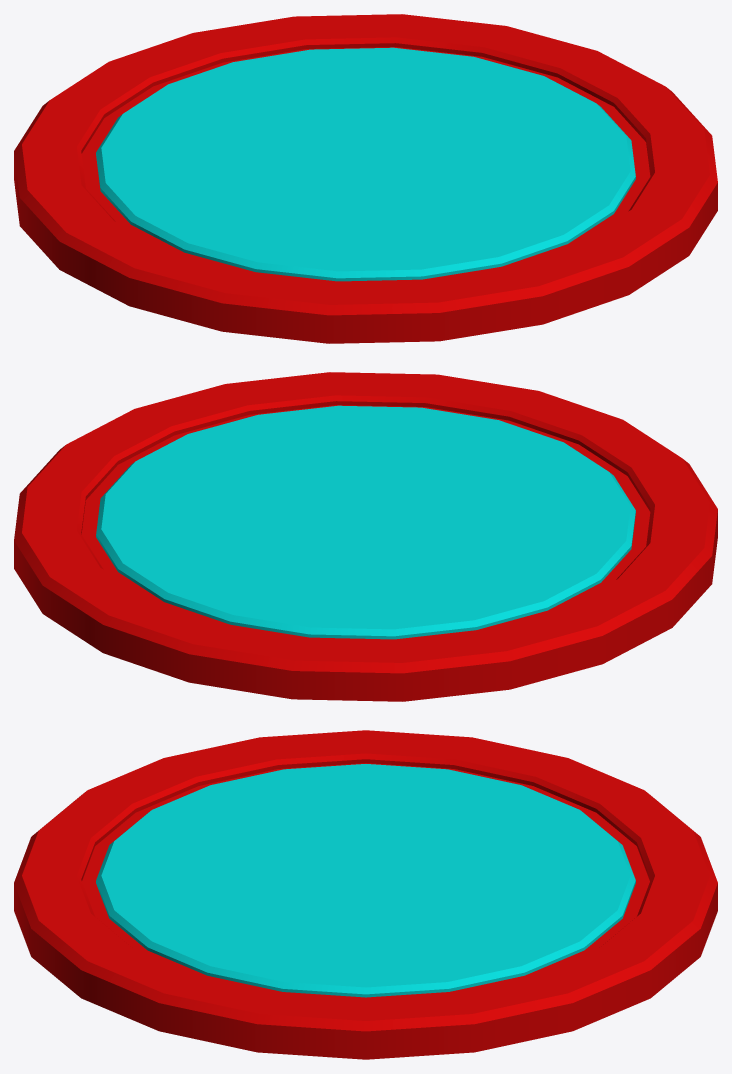
The model's file is groundDecal Unity.fbx.
The picture shows the model from 3 angles, top to bottom: view 1: azimuth 30°, elevation 25°; view 2: azimuth 150°, elevation 25°; view 3: azimuth 270°, elevation 25°; orthographic projection.
Visible parts, largest first — view 1: groundDecalUnity; view 2: groundDecalUnity; view 3: groundDecalUnity.
Part boxes in pixels (x1,y1,x2,y2): groundDecalUnity: (14, 14, 717, 343); groundDecalUnity: (14, 372, 717, 701); groundDecalUnity: (14, 730, 717, 1059).
Bounding box in the file's own units: 13.56 × 0.7503 × 13.56.
